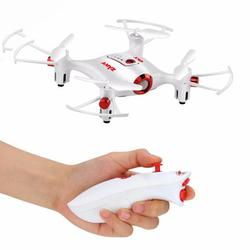drone: (1, 17, 237, 125)
